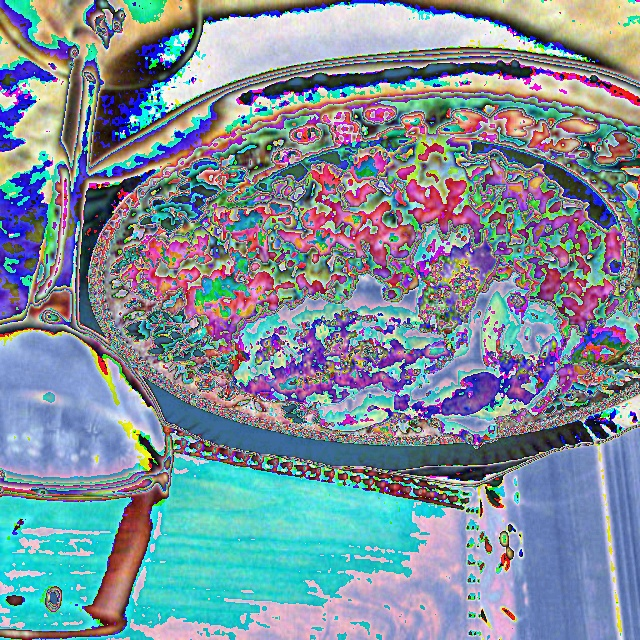background: (119, 134, 639, 448), (0, 183, 169, 500)
